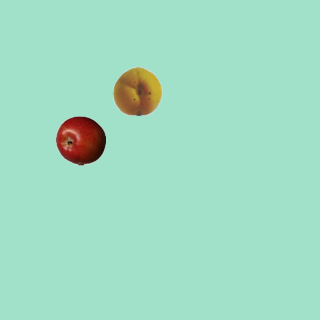Apple Braeburn: (55, 115, 105, 165)
Peach 2: (112, 65, 162, 115)
